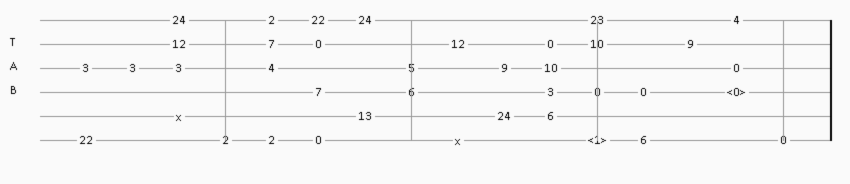0: (315, 134, 326, 146), (315, 38, 326, 50), (547, 38, 558, 50), (594, 86, 605, 98), (640, 86, 651, 98), (733, 62, 744, 74), (780, 134, 791, 146)
10: (544, 62, 562, 74), (590, 38, 608, 50)
12: (172, 38, 190, 50), (451, 38, 469, 50)
13: (358, 110, 376, 122)
2: (222, 134, 233, 146), (268, 134, 279, 146), (268, 14, 279, 26)
22: (79, 134, 97, 146), (311, 14, 329, 26)
23: (590, 14, 608, 26)
24: (172, 14, 190, 26), (358, 14, 376, 26), (497, 110, 515, 122)
3: (82, 62, 93, 74), (129, 62, 140, 74), (175, 62, 186, 74), (547, 86, 558, 98)
4: (268, 62, 279, 74), (733, 14, 744, 26)
5: (408, 62, 419, 74)
6: (408, 86, 419, 98), (547, 110, 558, 122), (640, 134, 651, 146)
7: (268, 38, 279, 50), (315, 86, 326, 98)
9: (501, 62, 512, 74), (687, 38, 698, 50)
harmonic: (588, 134, 611, 146), (727, 86, 750, 98)
x: (176, 111, 186, 121), (455, 135, 465, 145)
